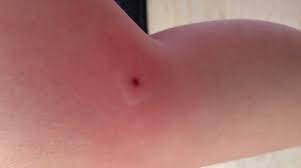Spider: (106, 53, 153, 108)
